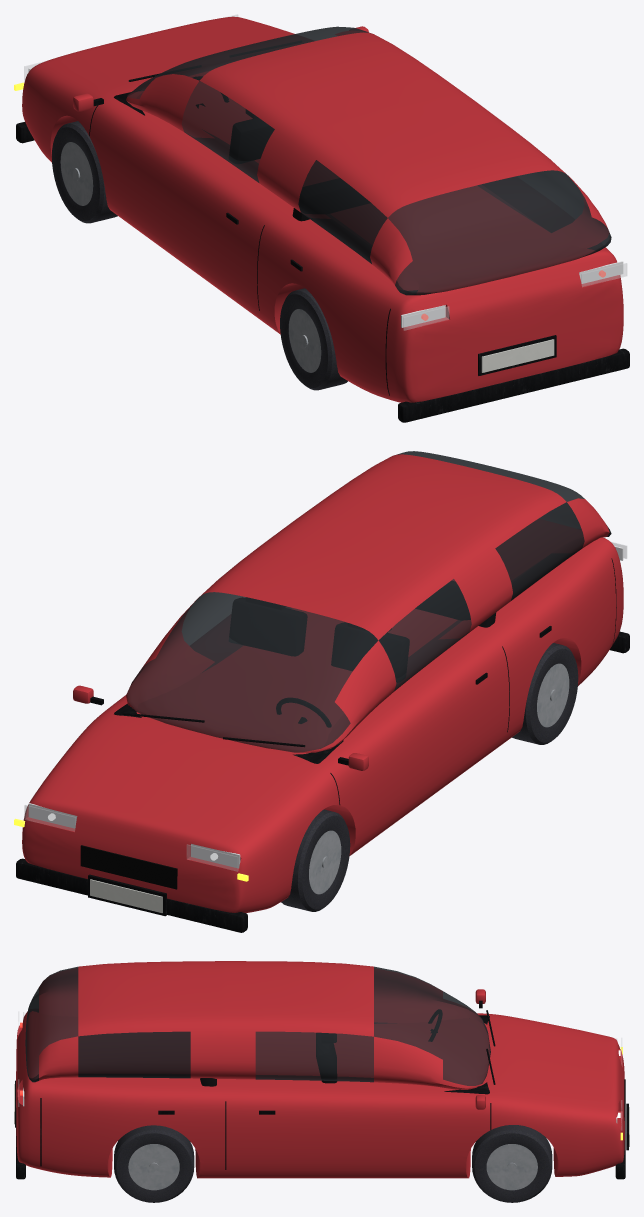
Rendered from estate_red.gltf.
The picture shows the model from 3 angles, top to bottom: view 1: azimuth 30°, elevation 25°; view 2: azimuth 150°, elevation 25°; view 3: azimuth 270°, elevation 25°; orthographic projection. The views are drawn at different scales.
Parts seen in each view (by area): view 1: estate_red; view 2: estate_red; view 3: estate_red.
Boxes of the visible parts, x1,y1,x2,y2 form: estate_red: (14, 14, 629, 422); estate_red: (14, 451, 629, 932); estate_red: (14, 961, 629, 1202).
Size of the model in its own units: 2.11 by 1.48 by 4.9.
Materials: 17 (8 with a texture image).
